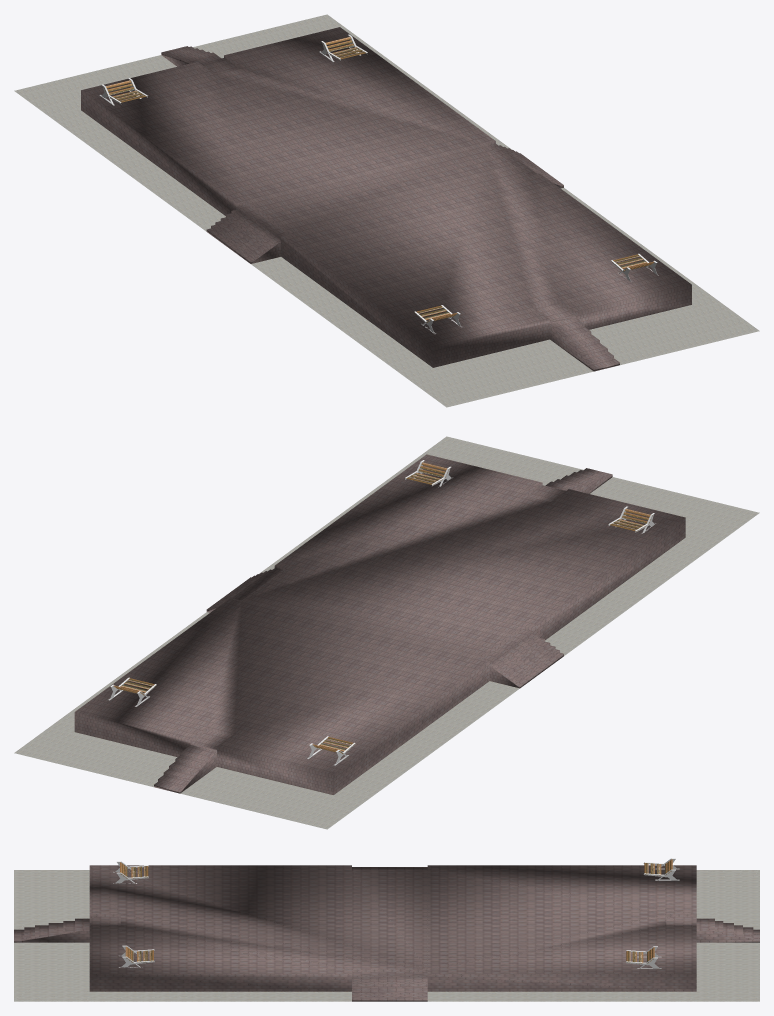
Rendered from cuadro.gltf.
The picture shows the model from 3 angles, top to bottom: view 1: azimuth 30°, elevation 25°; view 2: azimuth 150°, elevation 25°; view 3: azimuth 270°, elevation 25°; orthographic projection. The views are drawn at different scales.
Visible parts, largest first — view 1: cuadro; view 2: cuadro; view 3: cuadro.
Boxes of the visible parts, <box> form: cuadro: <box>14,14,759,407</box>; cuadro: <box>14,436,759,829</box>; cuadro: <box>14,858,759,1001</box>.
Size of the model in its own units: 786 by 77.3 by 1879.
6 materials, 4 textured.
